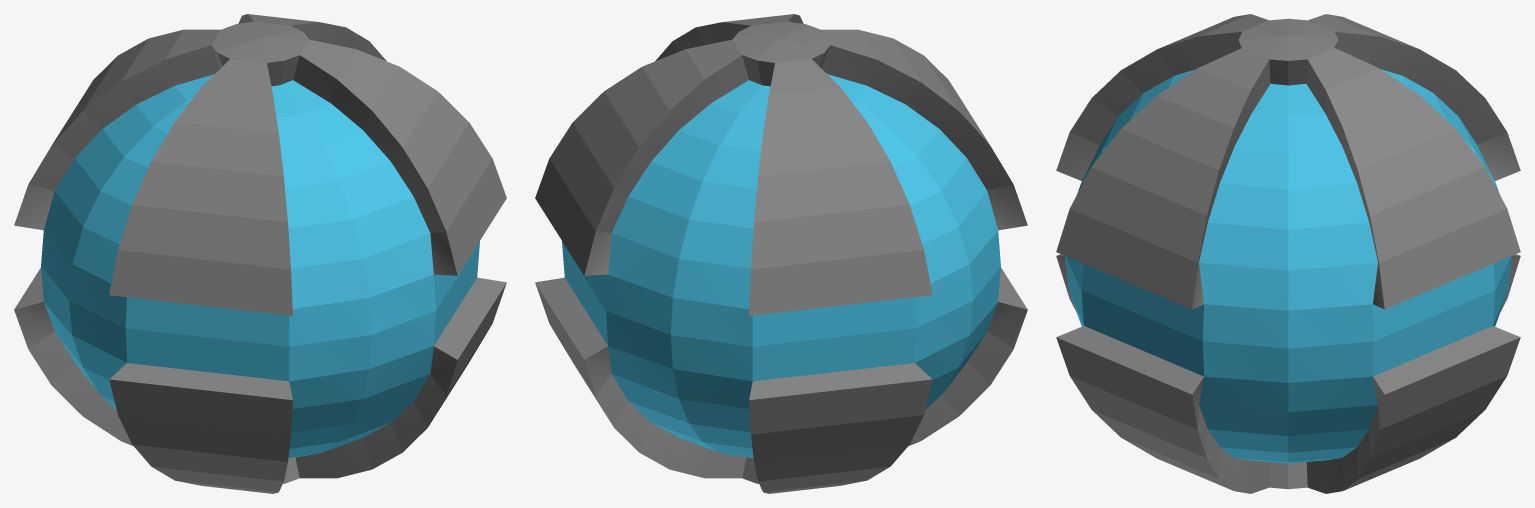
Rendered from Cannonball_Ice.fbx.
3 renders of one model, left to right at view 1: azimuth 30°, elevation 25°; view 2: azimuth 150°, elevation 25°; view 3: azimuth 270°, elevation 25°, orthographic.
Parts seen in each view (by area): view 1: Cannon_Ball_Ice; view 2: Cannon_Ball_Ice; view 3: Cannon_Ball_Ice.
Part boxes in pixels (x1=…): Cannon_Ball_Ice: x1=14, y1=14, x2=506, y2=493; Cannon_Ball_Ice: x1=535, y1=14, x2=1027, y2=493; Cannon_Ball_Ice: x1=1056, y1=14, x2=1520, y2=493.
Size of the model in its own units: 9 by 9.33 by 9.
